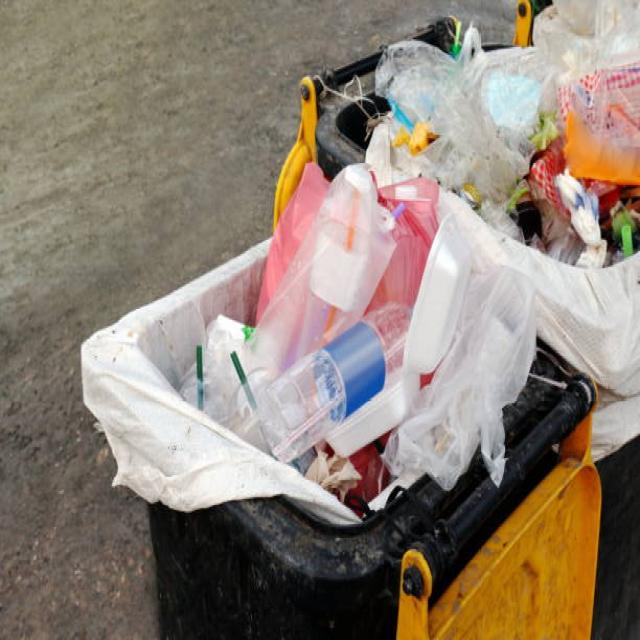plastic: (243, 157, 414, 496), (395, 27, 633, 246)
